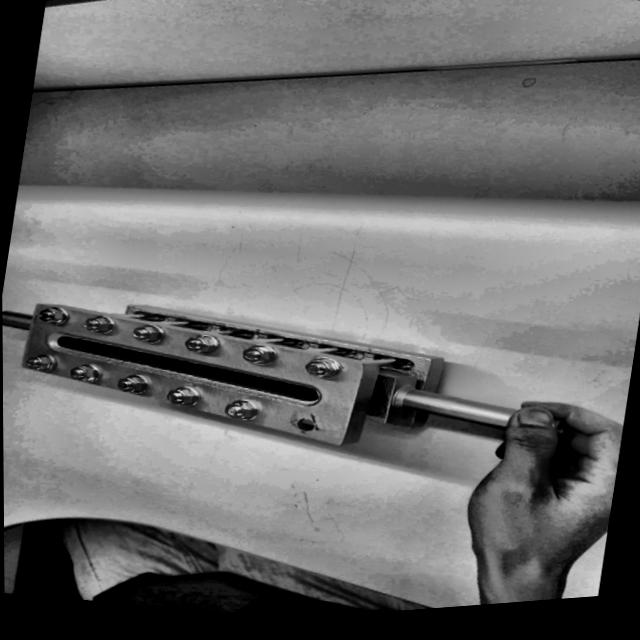ShuiWeiQi_11: (1, 216, 494, 536)
